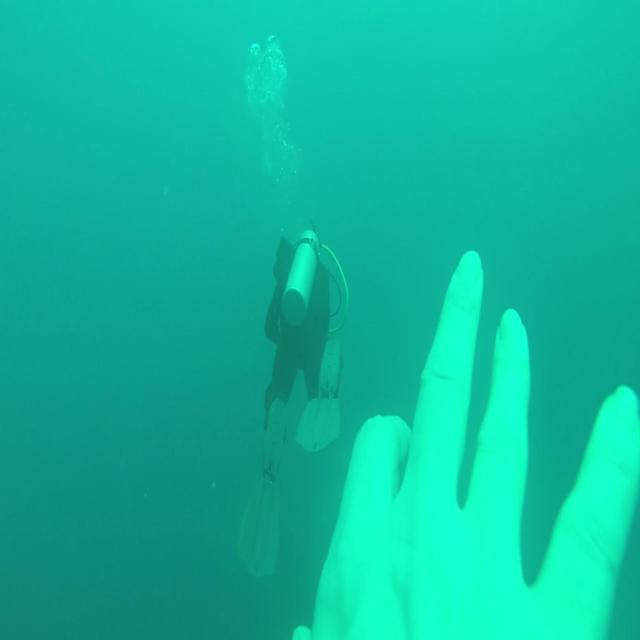human: (237, 226, 348, 578)
